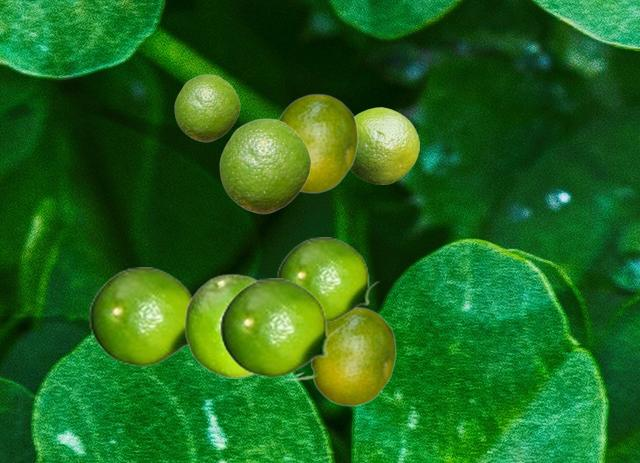calamansi: (219, 278, 339, 377), (282, 306, 395, 405), (88, 267, 192, 366), (276, 237, 379, 322), (219, 118, 310, 213), (278, 93, 357, 192), (184, 273, 258, 377), (350, 107, 418, 183), (174, 74, 239, 141)
